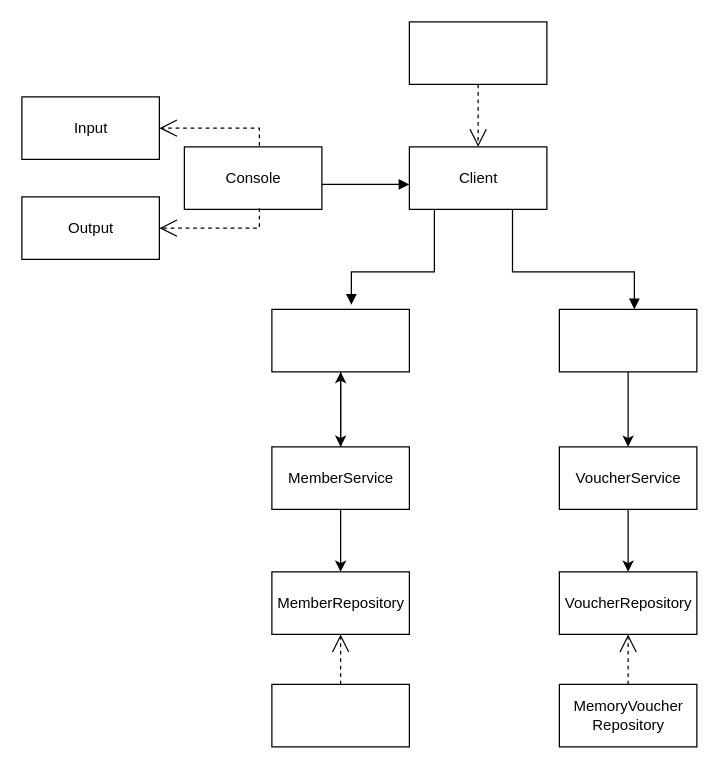
The diagram is 719 pixels wide and 769 high, and some of its shapes have lost their labels. Each missing label, with the centre of its shape:
CommandLine Application: the point at 477,52
FileMember Repository: the point at 340,715
MemberController: the point at 340,340
VoucherController: the point at 627,340
